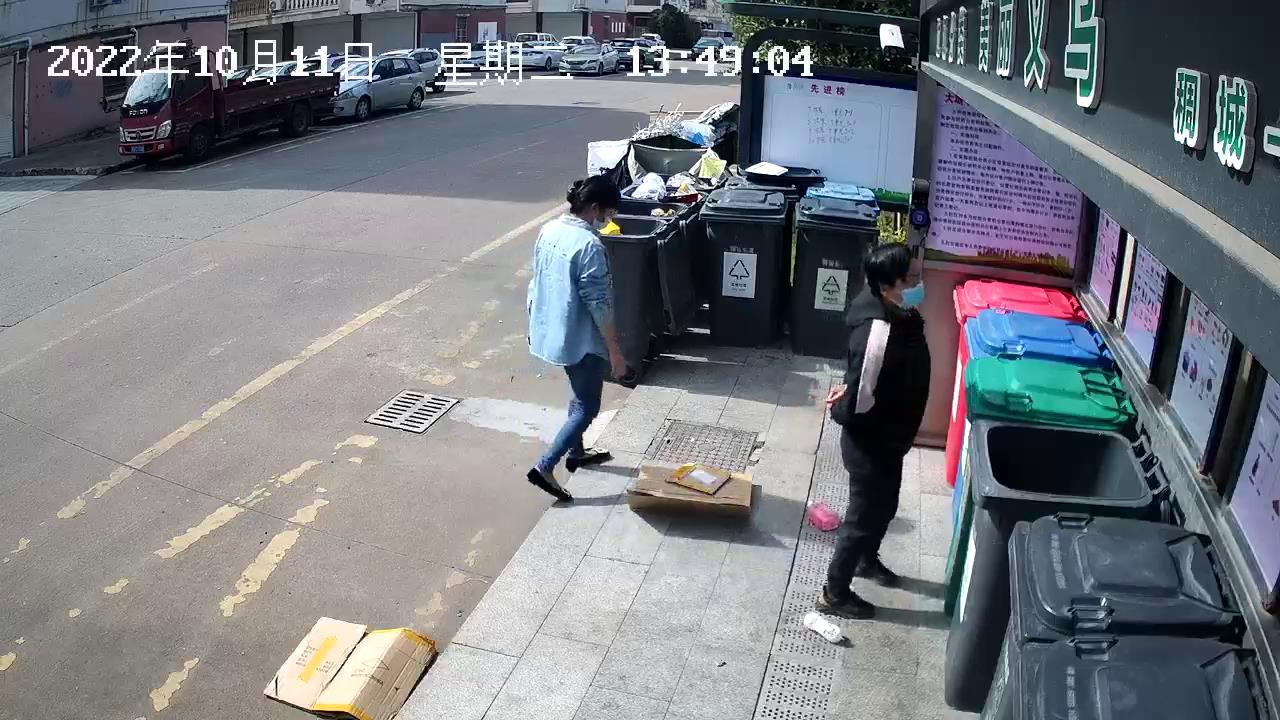person: (810, 238, 936, 622)
suliaozhipin: (801, 606, 847, 649), (802, 490, 845, 534)
worker: (515, 173, 633, 507)
zhizhipin: (259, 608, 447, 720), (619, 454, 763, 523)
